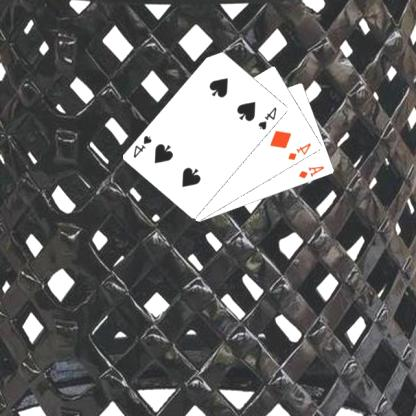4D: (287, 140, 315, 162)
4S: (132, 132, 156, 160), (257, 104, 281, 131)
AD: (297, 163, 328, 180)
